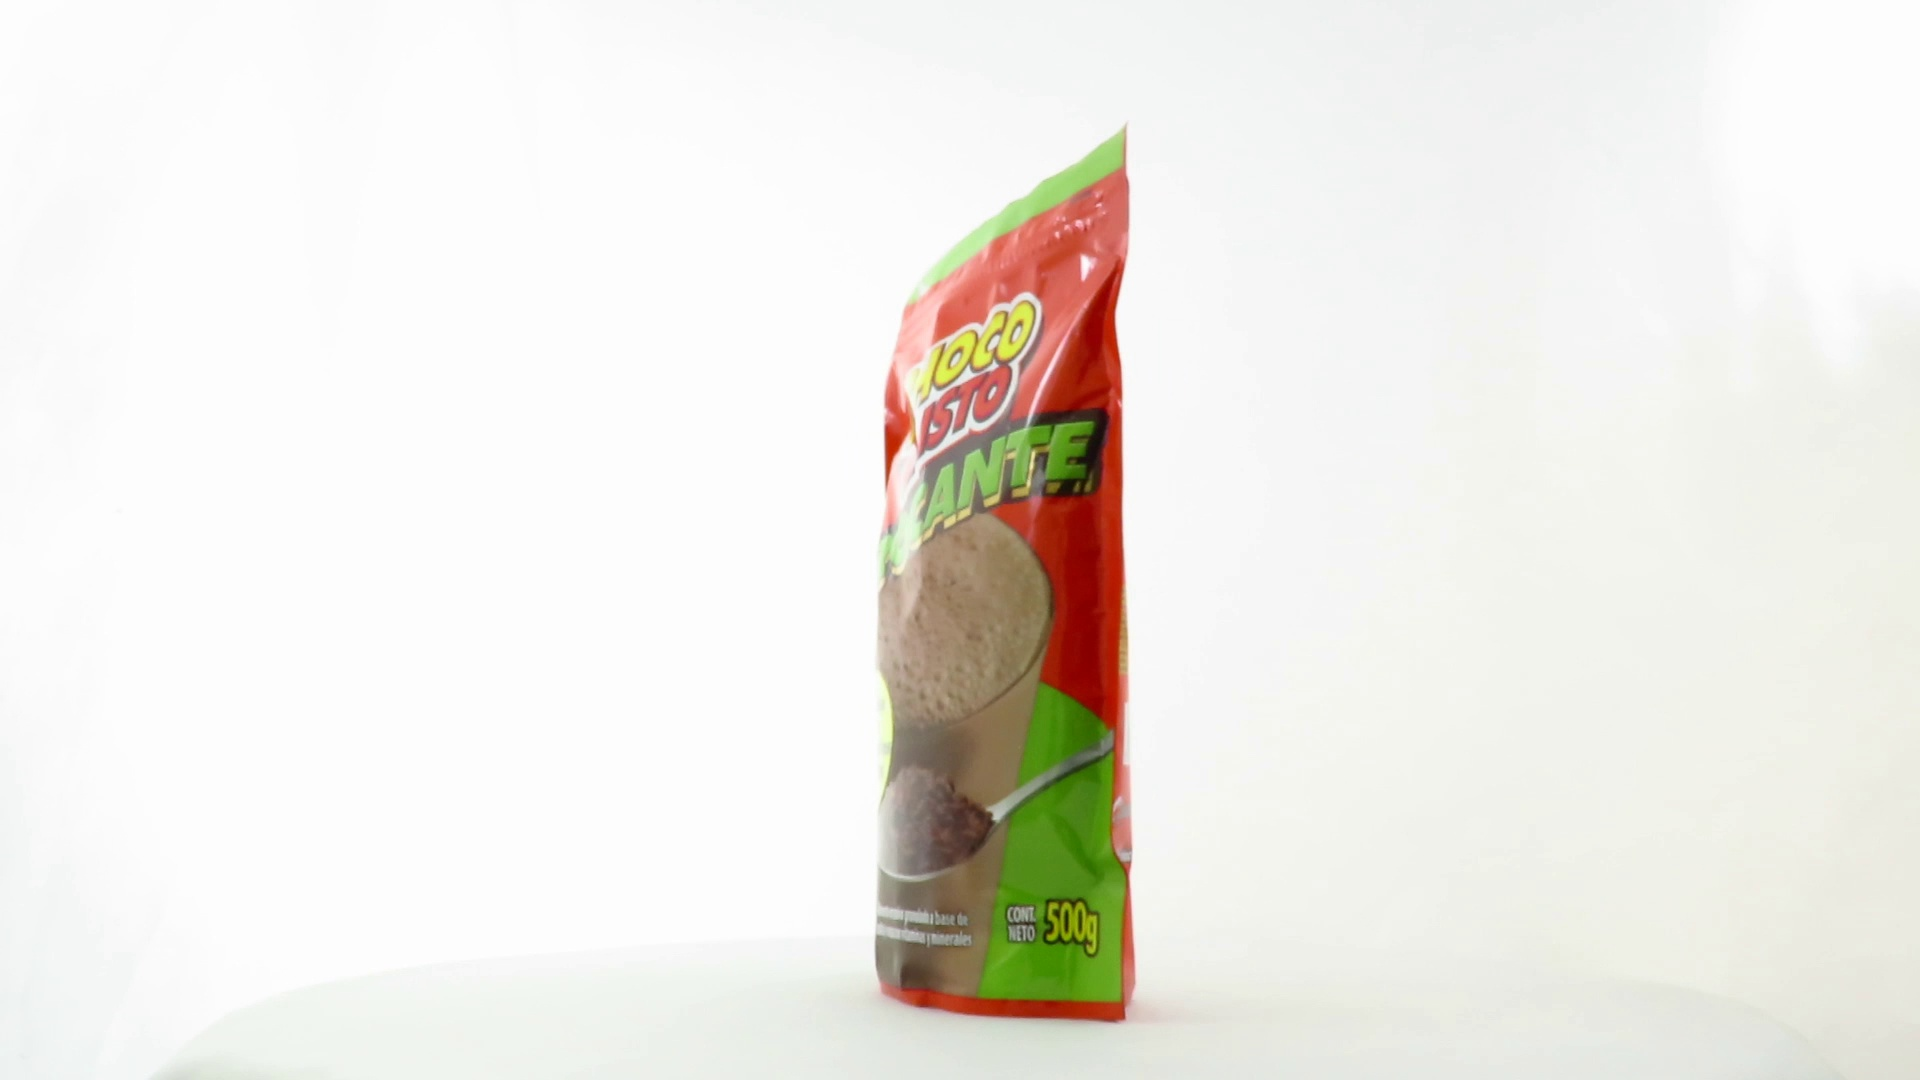COL0170102DYP50000: (870, 115, 1162, 1029)
